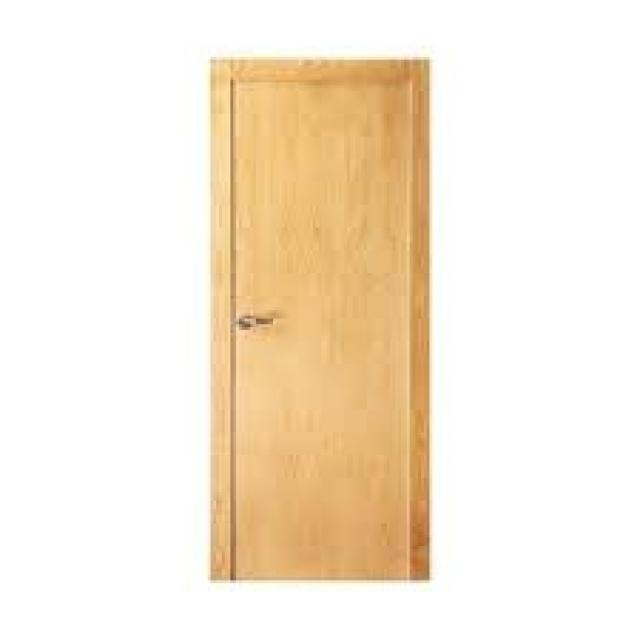door: (209, 56, 434, 582)
